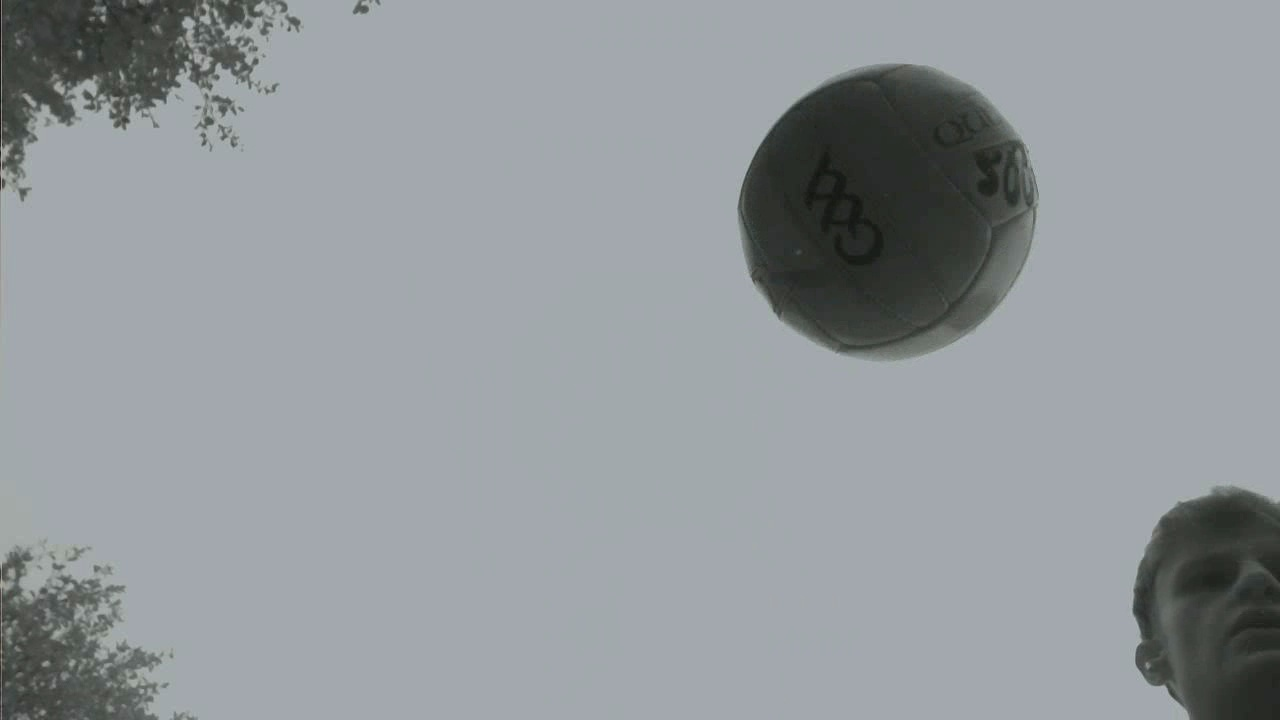Football-Spotter: (739, 64, 1039, 359)
